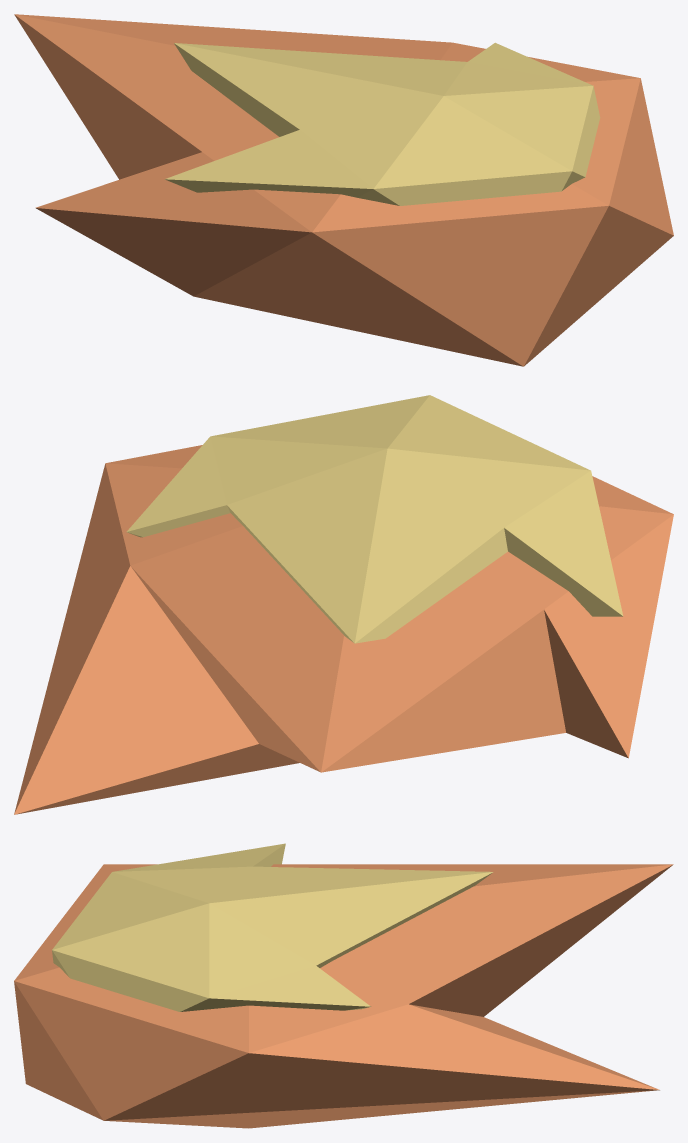
File: Fire.fbx
The picture shows the model from 3 angles, top to bottom: view 1: azimuth 30°, elevation 25°; view 2: azimuth 150°, elevation 25°; view 3: azimuth 270°, elevation 25°; orthographic projection. The views are drawn at different scales.
Parts seen in each view (by area): view 1: Icosphere, Icosphere.001; view 2: Icosphere, Icosphere.001; view 3: Icosphere, Icosphere.001.
Boxes of the visible parts, x1,y1,x2,y2 form: Icosphere: (14,14,673,366); Icosphere.001: (164,42,600,205); Icosphere: (14,445,673,814); Icosphere.001: (126,395,623,643); Icosphere: (14,864,673,1128); Icosphere.001: (52,843,493,1011).
Bounding box in the file's own units: 210 × 91.1 × 239.
